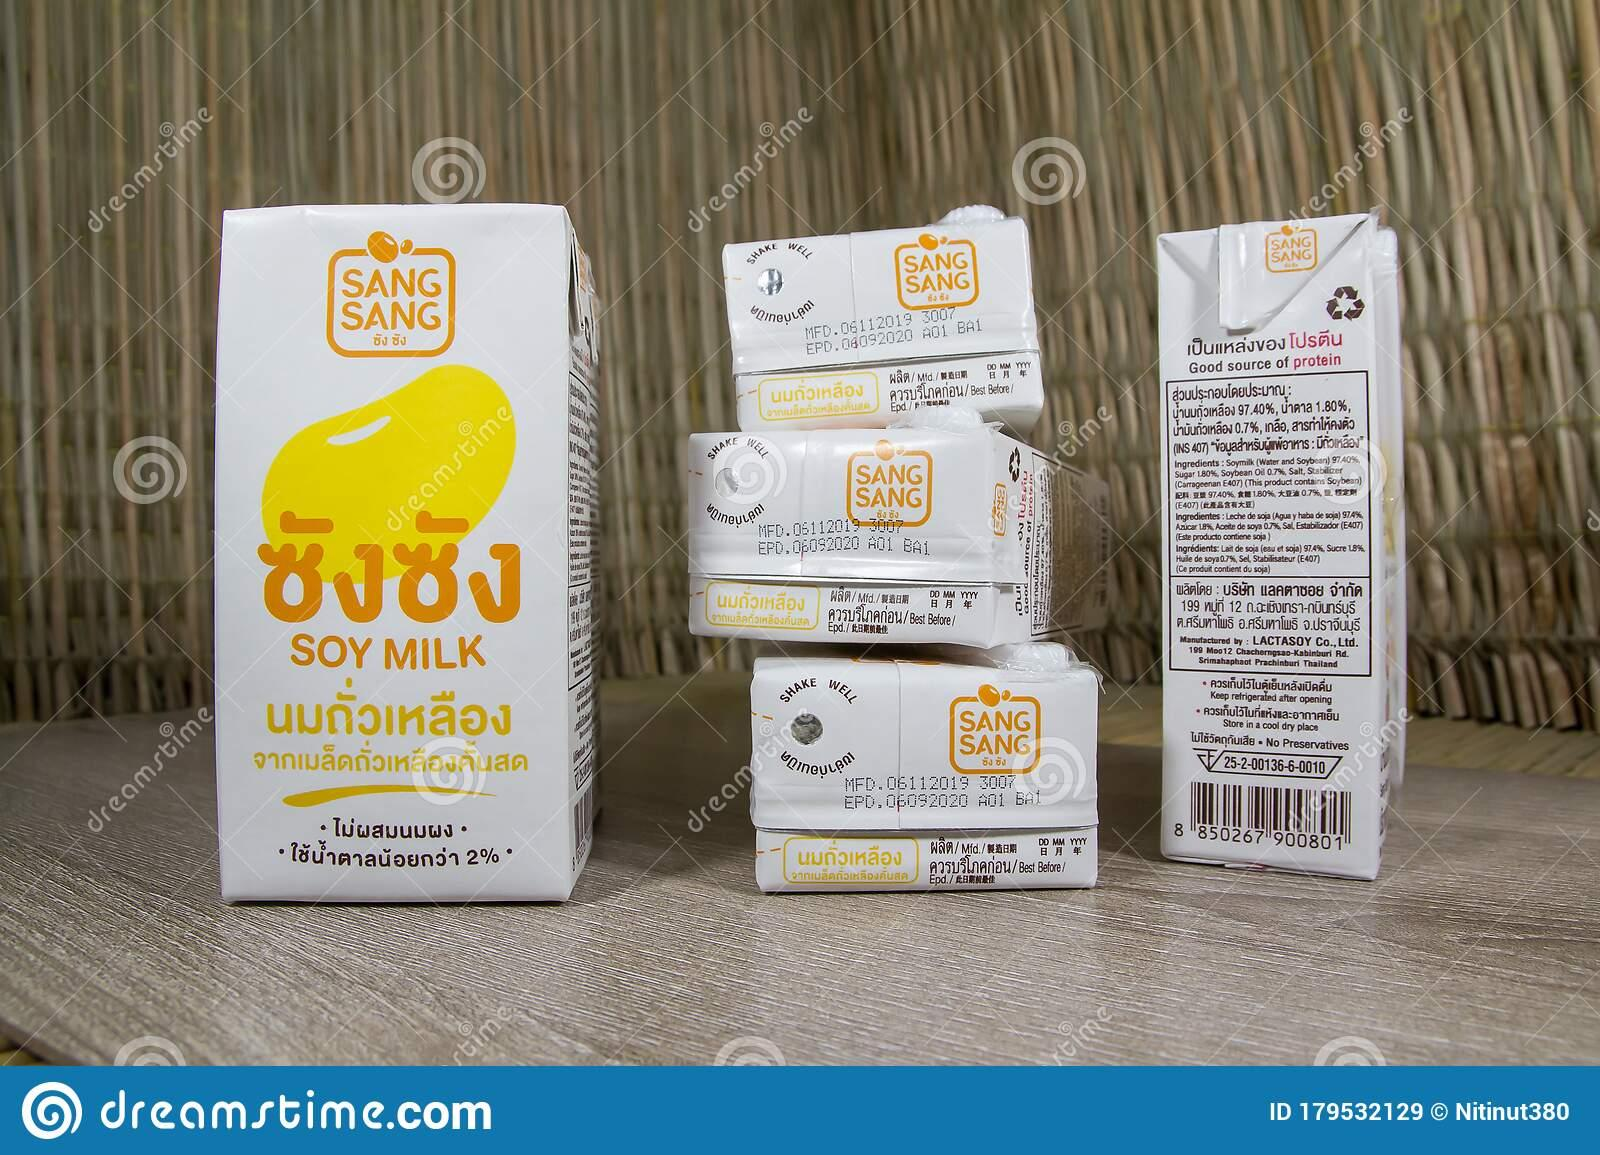cardboard: (215, 204, 595, 899), (1159, 214, 1405, 876), (752, 645, 1098, 890), (688, 415, 1050, 645), (723, 206, 1042, 426)
plastic: (752, 645, 1098, 890), (688, 415, 1050, 645)
